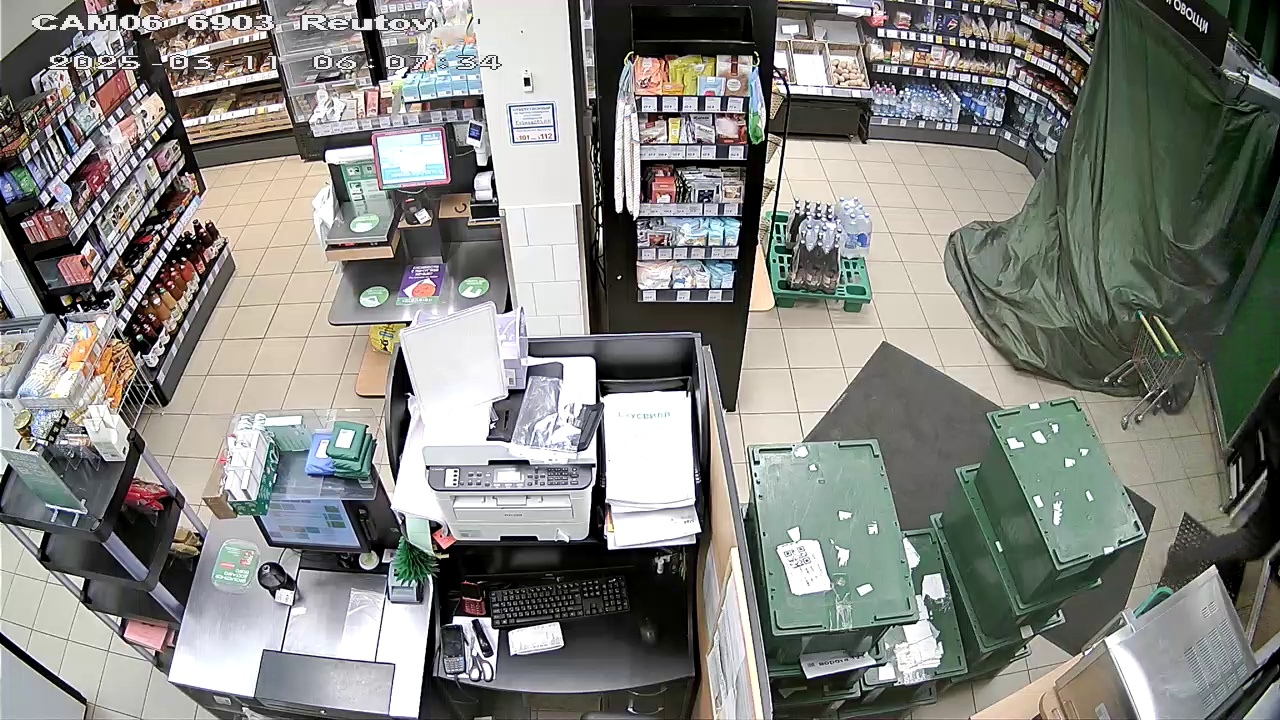dome: (980, 9, 1275, 407)
